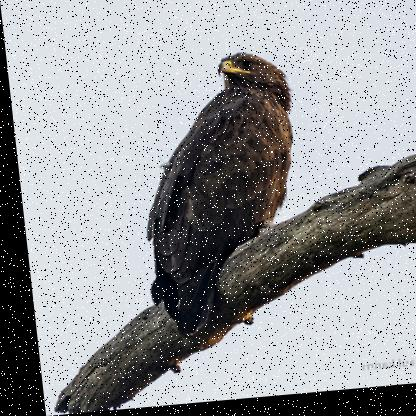Burung: (118, 53, 310, 343)
